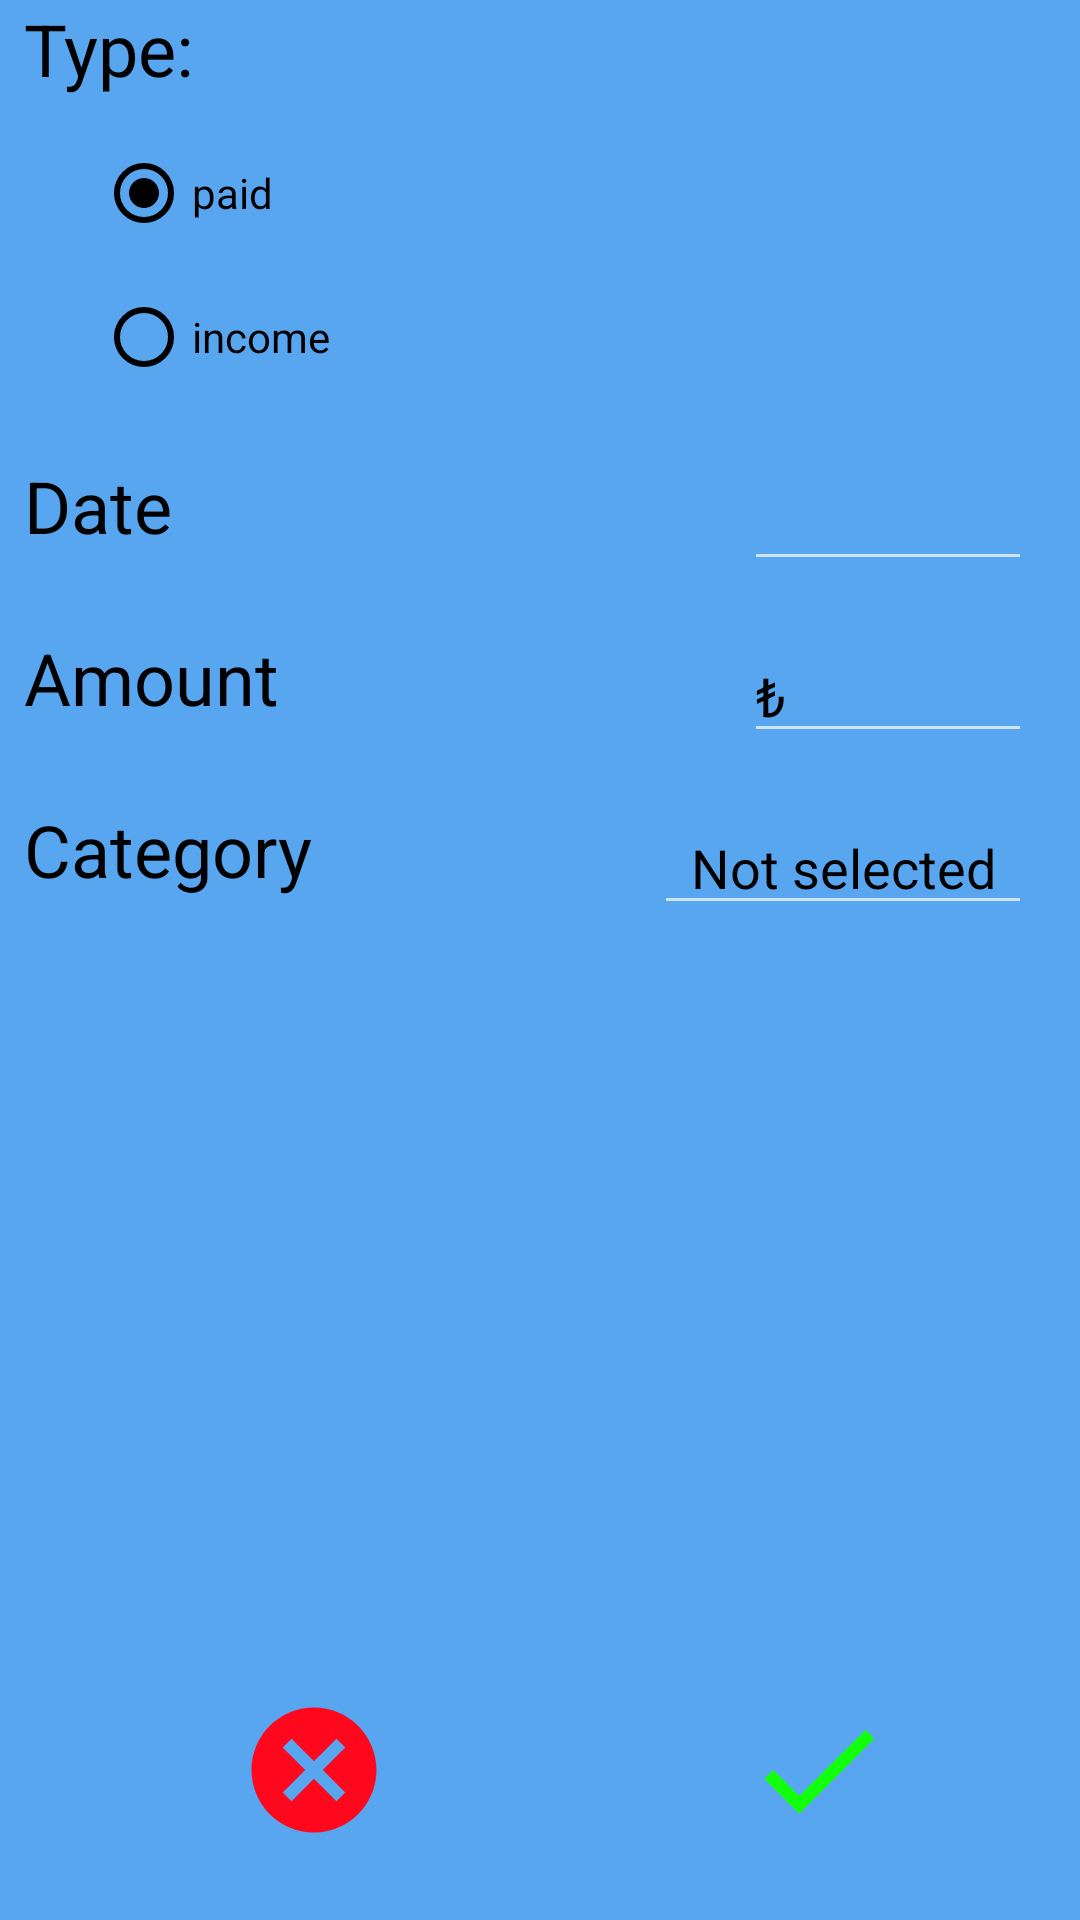

Icon click points for this 1080 x 1920 phone screenshot, format (x=x, y=y):
cancel: (x=314, y=1770)
check: (x=819, y=1772)
